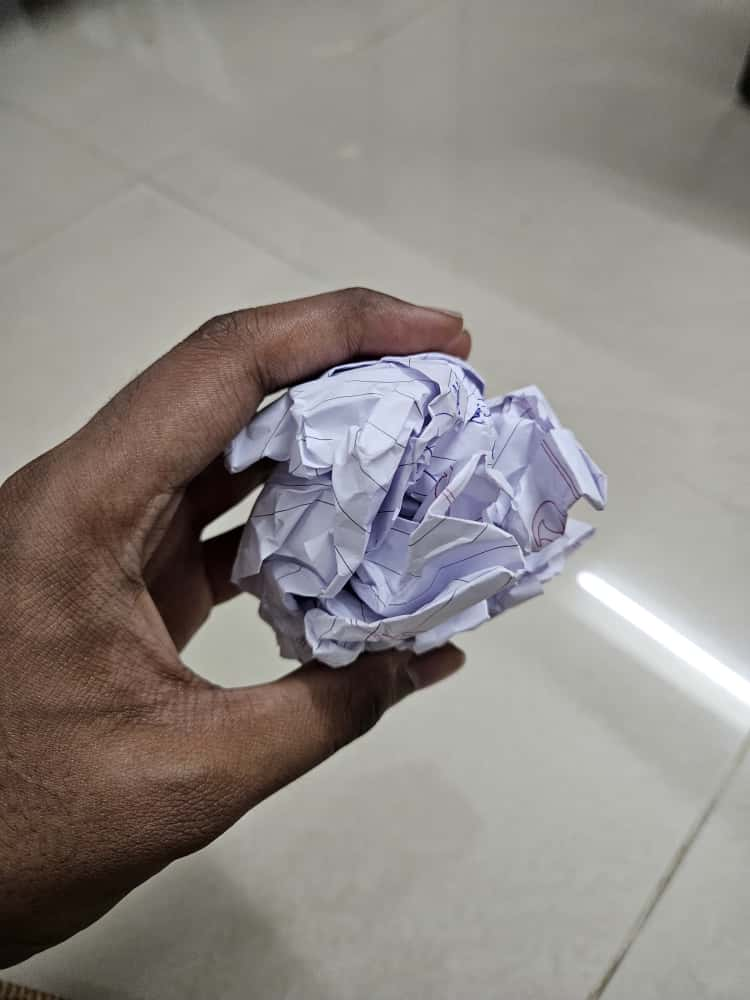dry: (190, 349, 627, 684)
